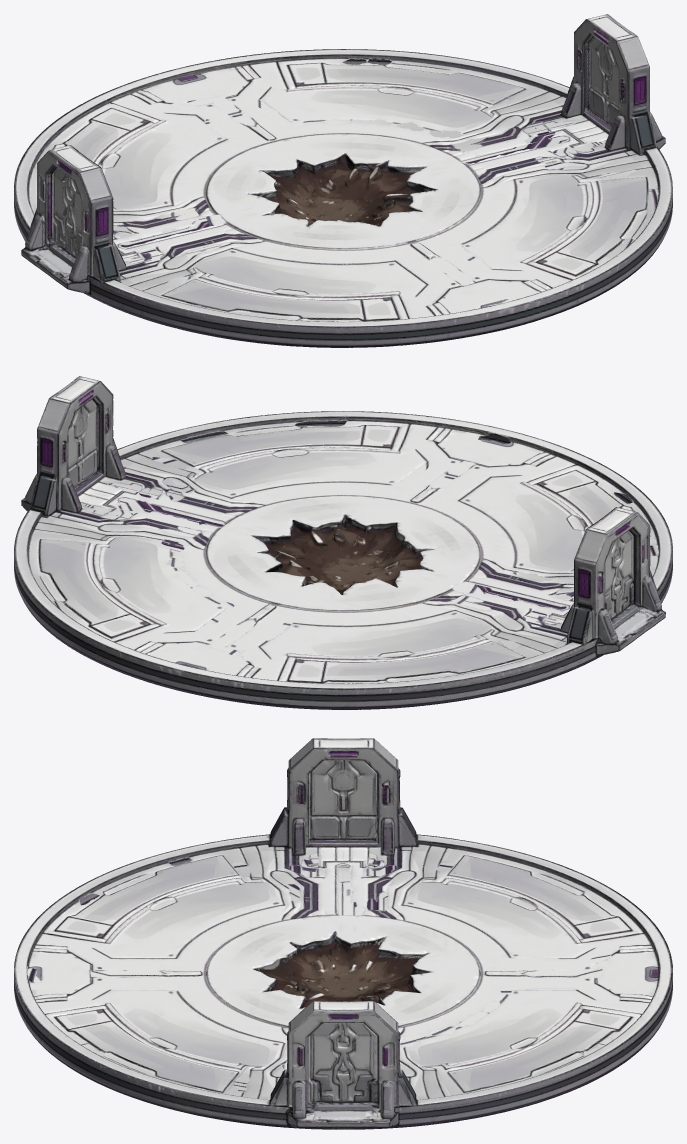
File: Meshy_AI_Base_Lab_0416011600_texture.fbx
3 views of the same model, one above another, from view 1: azimuth 30°, elevation 25°; view 2: azimuth 150°, elevation 25°; view 3: azimuth 270°, elevation 25° (orthographic).
Visible parts, largest first — view 1: Mesh_0; view 2: Mesh_0; view 3: Mesh_0.
Boxes of the visible parts, box(x1,y1,x2,y2) form: Mesh_0: box(14, 14, 672, 347); Mesh_0: box(14, 376, 672, 709); Mesh_0: box(14, 738, 672, 1129).
Bounding box in the file's own units: 190 × 35.42 × 181.
1 material, 1 textured.
